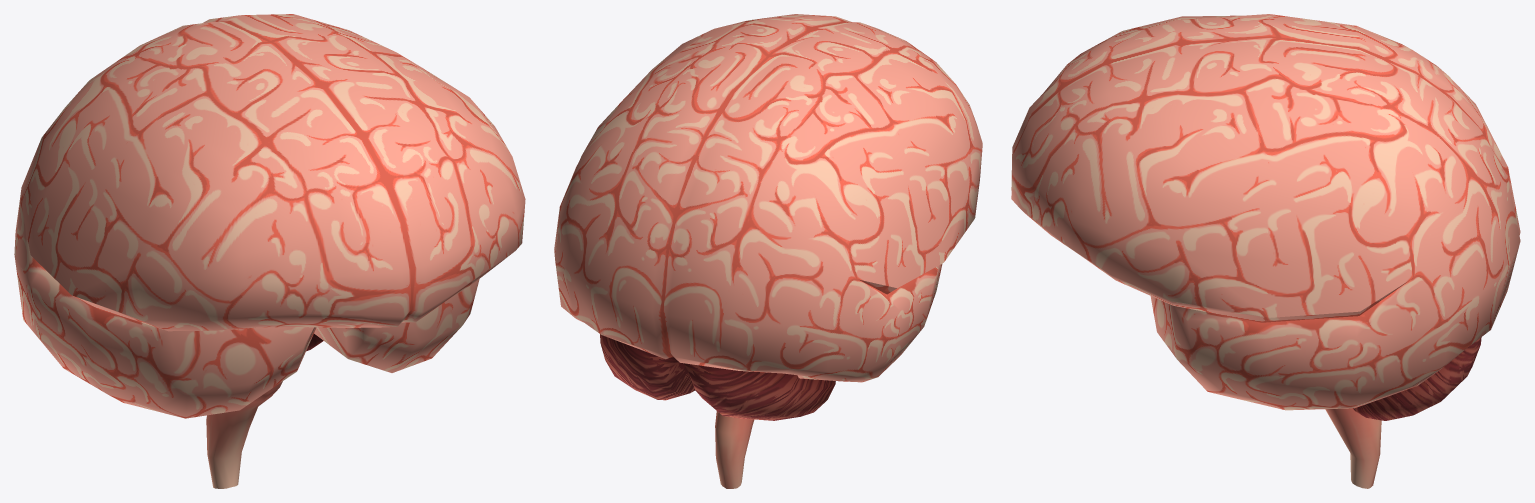
Rendered from Brain01.fbx.
The picture shows the model from 3 angles, left to right: view 1: azimuth 30°, elevation 25°; view 2: azimuth 150°, elevation 25°; view 3: azimuth 270°, elevation 25°; orthographic projection. The views are drawn at different scales.
Visible parts, largest first — view 1: Brain01; view 2: Brain01; view 3: Brain01.
Boxes of the visible parts, x1,y1,x2,y2 form: Brain01: [14, 14, 525, 488]; Brain01: [554, 14, 982, 488]; Brain01: [1011, 14, 1520, 488].
Bounding box in the file's own units: 143 × 162 × 166.
